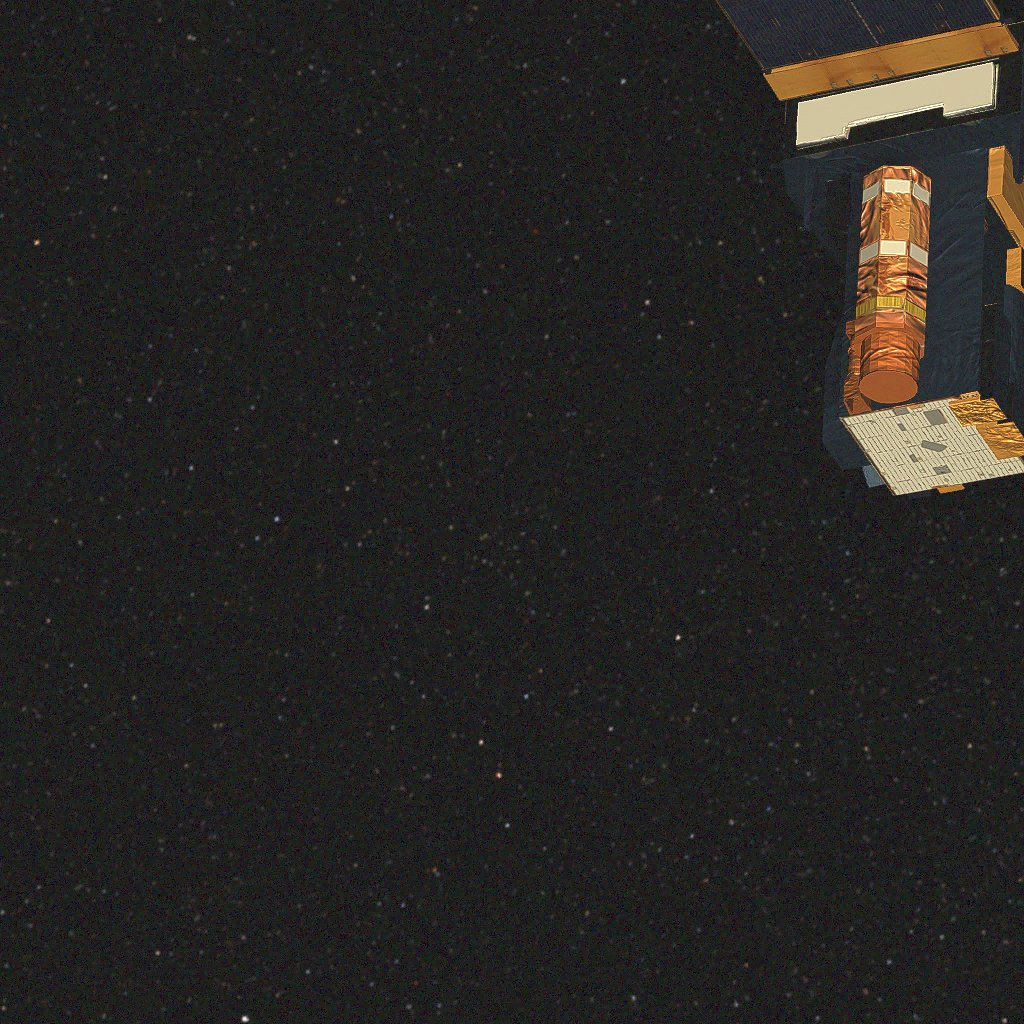soho: (716, 0, 1024, 499)
